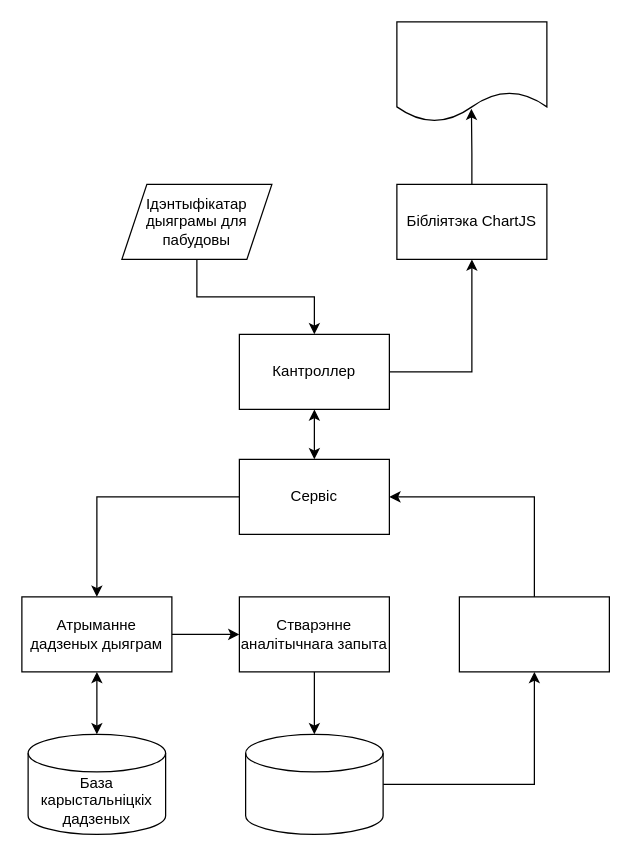
Some shapes in this 631 by 856 pixel diagram are drawn without their labels. Here are the shapes that lost their labels. From the top down, the box of each, then its label:
(396, 21, 547, 122): Графінае прадстаўленне дыяграмы
(458, 596, 609, 672): Апраўока дадзеных запыта
(244, 733, 383, 834): Сховішча гульнявых дадзеных
